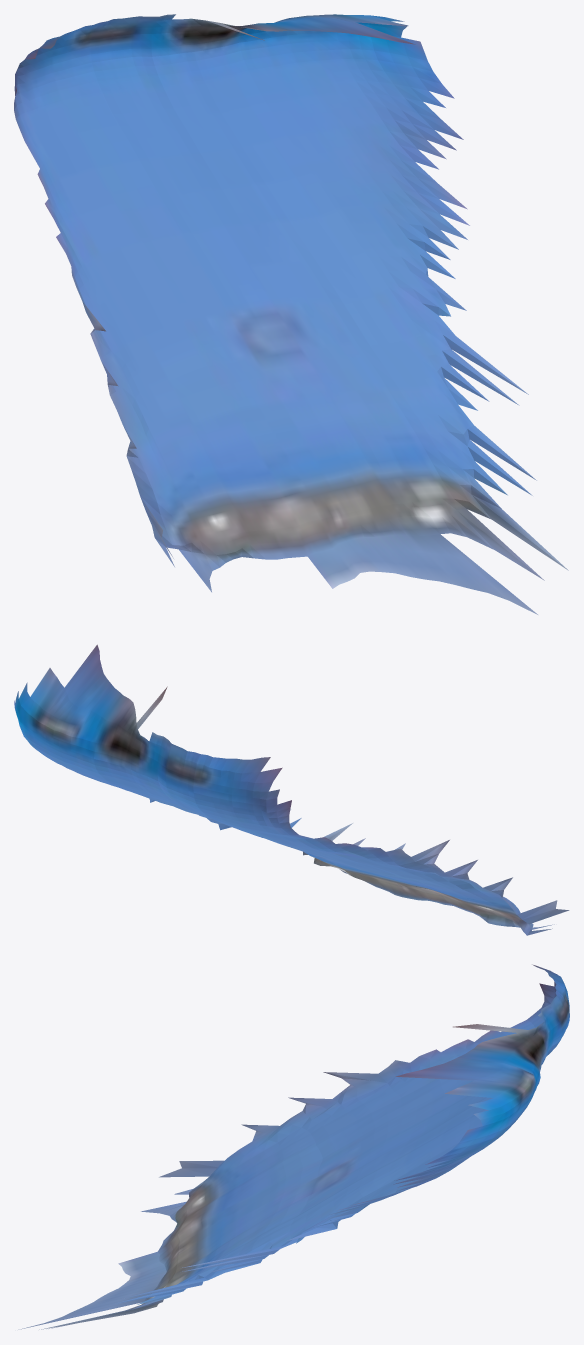
File: observed-surface.glb
The picture shows the model from 3 angles, top to bottom: view 1: azimuth 30°, elevation 25°; view 2: azimuth 150°, elevation 25°; view 3: azimuth 270°, elevation 25°; orthographic projection. The views are drawn at different scales.
Visible parts, largest first — view 1: geometry_0; view 2: geometry_0; view 3: geometry_0.
Boxes of the visible parts, bbox=[...] form: geometry_0: bbox=[14, 14, 568, 614]; geometry_0: bbox=[14, 644, 569, 935]; geometry_0: bbox=[18, 964, 569, 1329].
Bounding box in the file's own units: 0.4367 × 0.3528 × 0.5859.
Materials: 1 (1 with a texture image).
